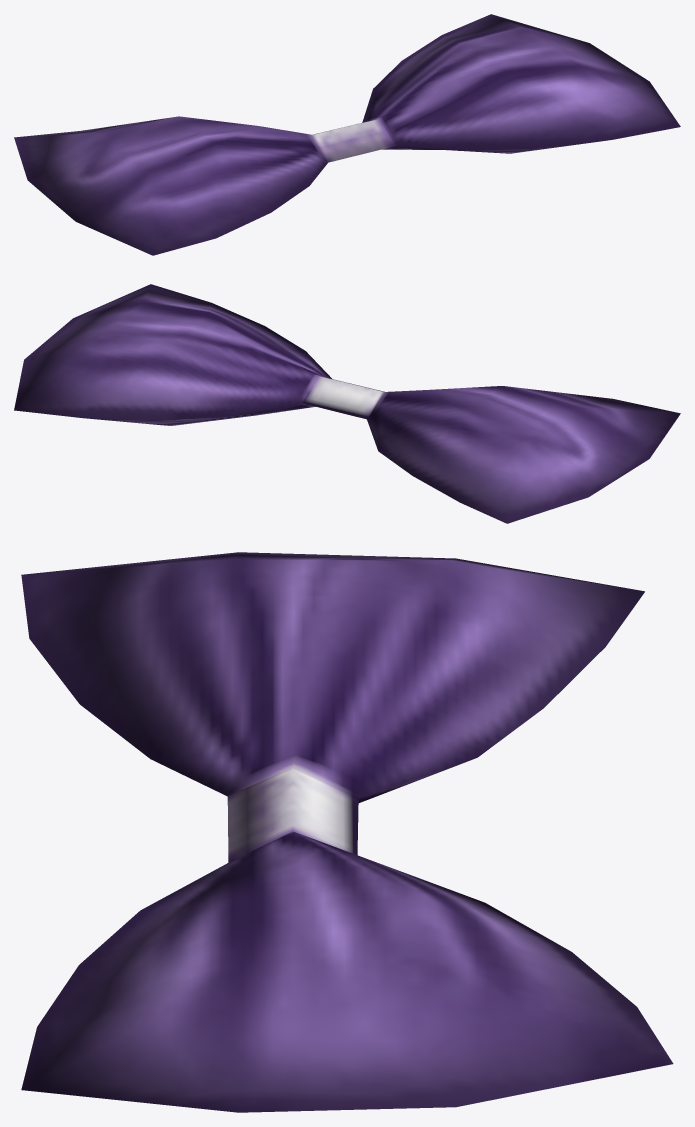
The model's file is JiaMianWuHuiXianChang_01_hudiejie_01.FBX.
3 renders of one model, top to bottom at view 1: azimuth 30°, elevation 25°; view 2: azimuth 150°, elevation 25°; view 3: azimuth 270°, elevation 25°, orthographic. The views are drawn at different scales.
Parts seen in each view (by area): view 1: JiaMianWuHuiXianChang_01_hudiejie_01; view 2: JiaMianWuHuiXianChang_01_hudiejie_01; view 3: JiaMianWuHuiXianChang_01_hudiejie_01.
Part boxes in pixels (x1,y1,x2,y2): JiaMianWuHuiXianChang_01_hudiejie_01: (14,14,680,255); JiaMianWuHuiXianChang_01_hudiejie_01: (14,284,680,523); JiaMianWuHuiXianChang_01_hudiejie_01: (21,552,673,1112).
Size of the model in its own units: 83.02 by 10.97 by 40.83.
Materials: 1 (1 with a texture image).
